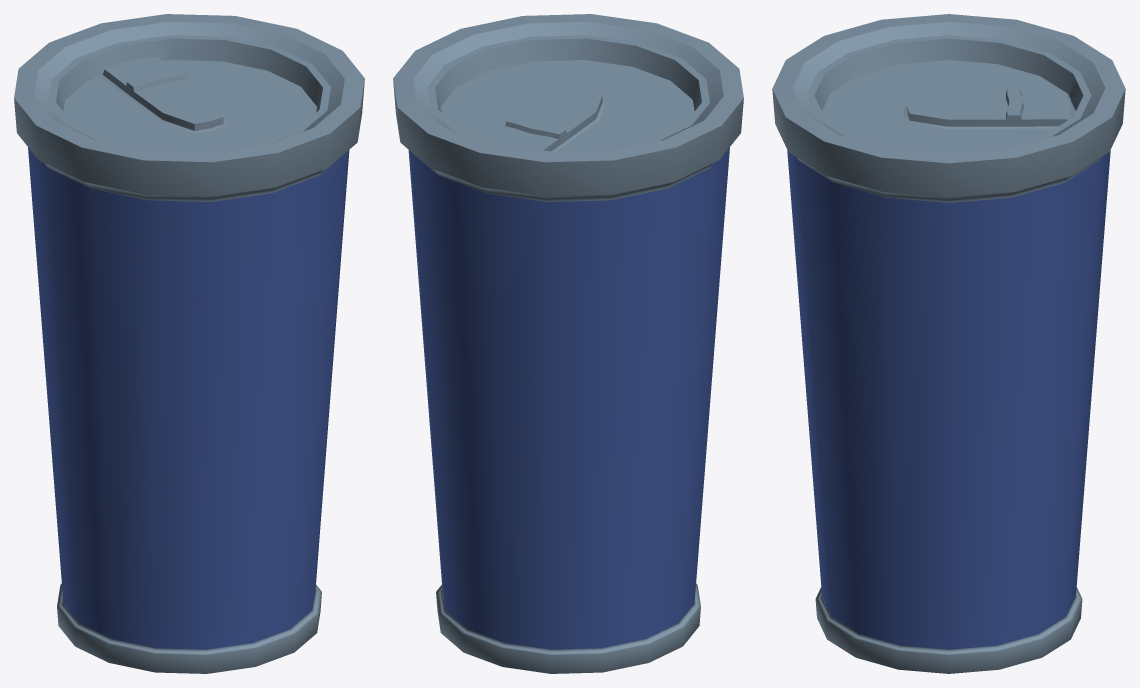
File: Tumbler_Fixed_low.fbx
3 views of the same model, side by side, from view 1: azimuth 30°, elevation 25°; view 2: azimuth 150°, elevation 25°; view 3: azimuth 270°, elevation 25° (orthographic).
Parts seen in each view (by area): view 1: Tumbler_Fixed_low_static; view 2: Tumbler_Fixed_low_static; view 3: Tumbler_Fixed_low_static.
Part boxes in pixels (box(x1,y1,x2,y2)): Tumbler_Fixed_low_static: box(14, 14, 364, 673); Tumbler_Fixed_low_static: box(393, 14, 743, 673); Tumbler_Fixed_low_static: box(772, 14, 1125, 673).
Bounding box in the file's own units: 181 × 300 × 181.
1 material, 1 textured.
